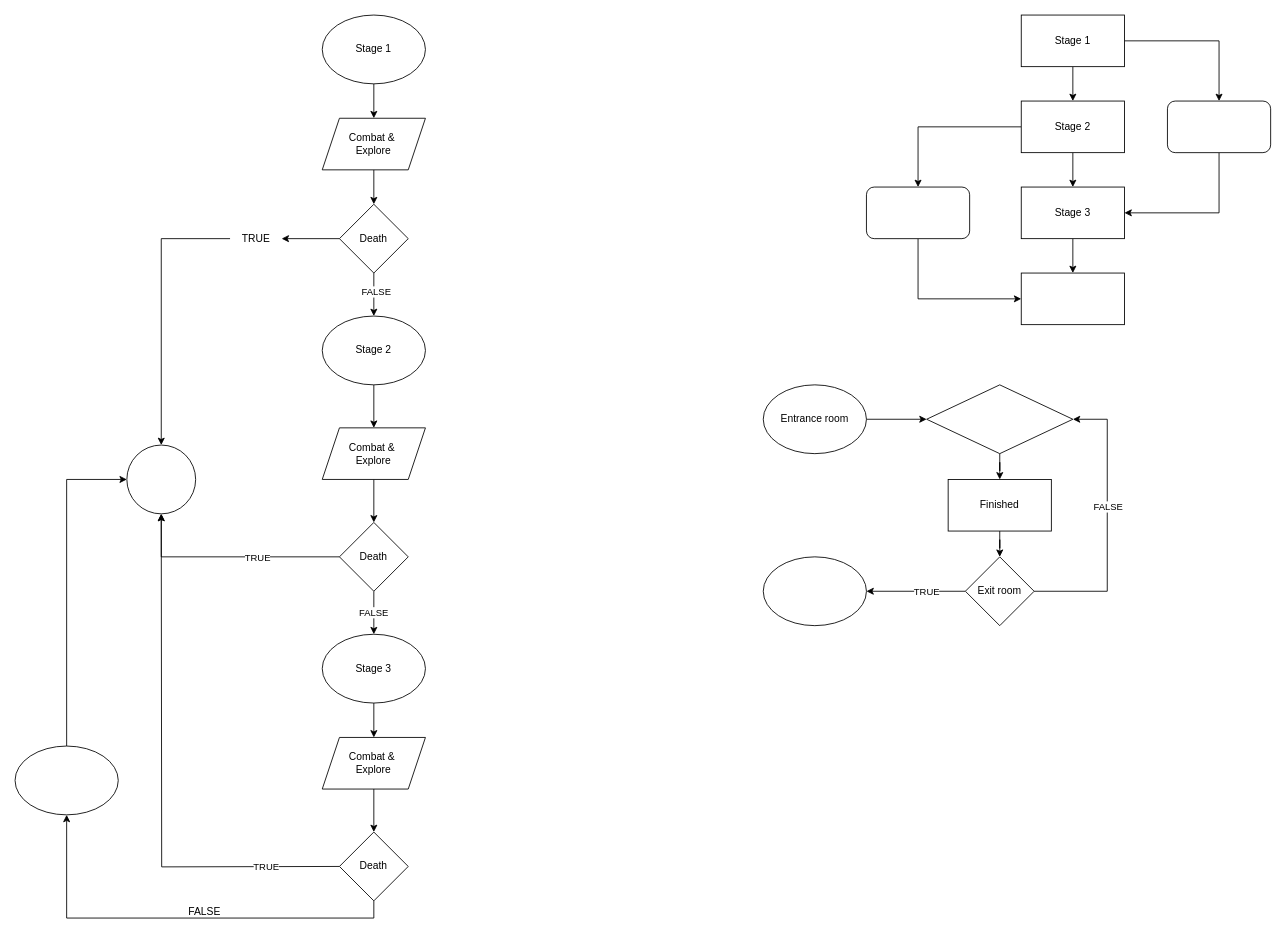
Image size: 1286x940. Some labels were removed from this diagram. The shapes that lost their labels are listed below. From the top down, each one's centre as x and y in pixels, then its label:
the point at 1219,126: Sub stage 2
the point at 918,212: Sub stage 3
the point at 1072,298: Ending stage (No fighting) (Show case stats)
the point at 999,419: Random room
the point at 161,479: Main stage
the point at 814,591: Next stage
the point at 66,780: Ending stage
